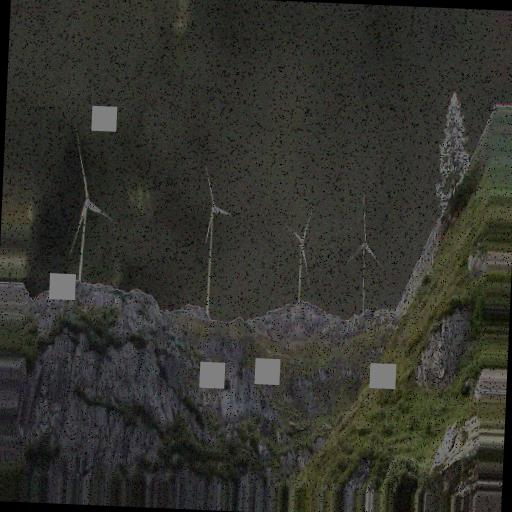wind turbine: (67, 124, 116, 287), (343, 192, 383, 314), (202, 166, 232, 312), (281, 209, 315, 305)
